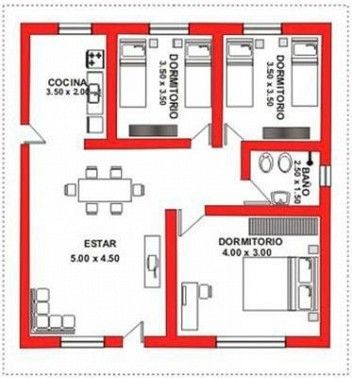door: (186, 115, 214, 156), (180, 205, 211, 242), (121, 316, 150, 348), (221, 109, 239, 150), (24, 126, 51, 146)
room: (13, 142, 180, 348), (164, 201, 331, 350), (106, 14, 229, 152), (210, 17, 331, 154), (22, 16, 119, 148)
wall: (18, 145, 33, 354), (161, 205, 184, 337), (317, 188, 333, 348), (71, 134, 195, 150), (207, 202, 318, 218), (321, 31, 334, 164), (104, 33, 119, 140), (213, 32, 226, 150), (145, 332, 219, 352), (18, 18, 31, 128), (235, 138, 328, 153), (285, 333, 333, 358), (92, 20, 153, 38), (190, 17, 243, 36), (22, 330, 61, 351), (283, 22, 331, 34), (235, 148, 252, 181)
window: (220, 332, 287, 353), (239, 18, 283, 38), (62, 334, 106, 351), (147, 20, 188, 37), (58, 20, 92, 40), (317, 163, 335, 188)
